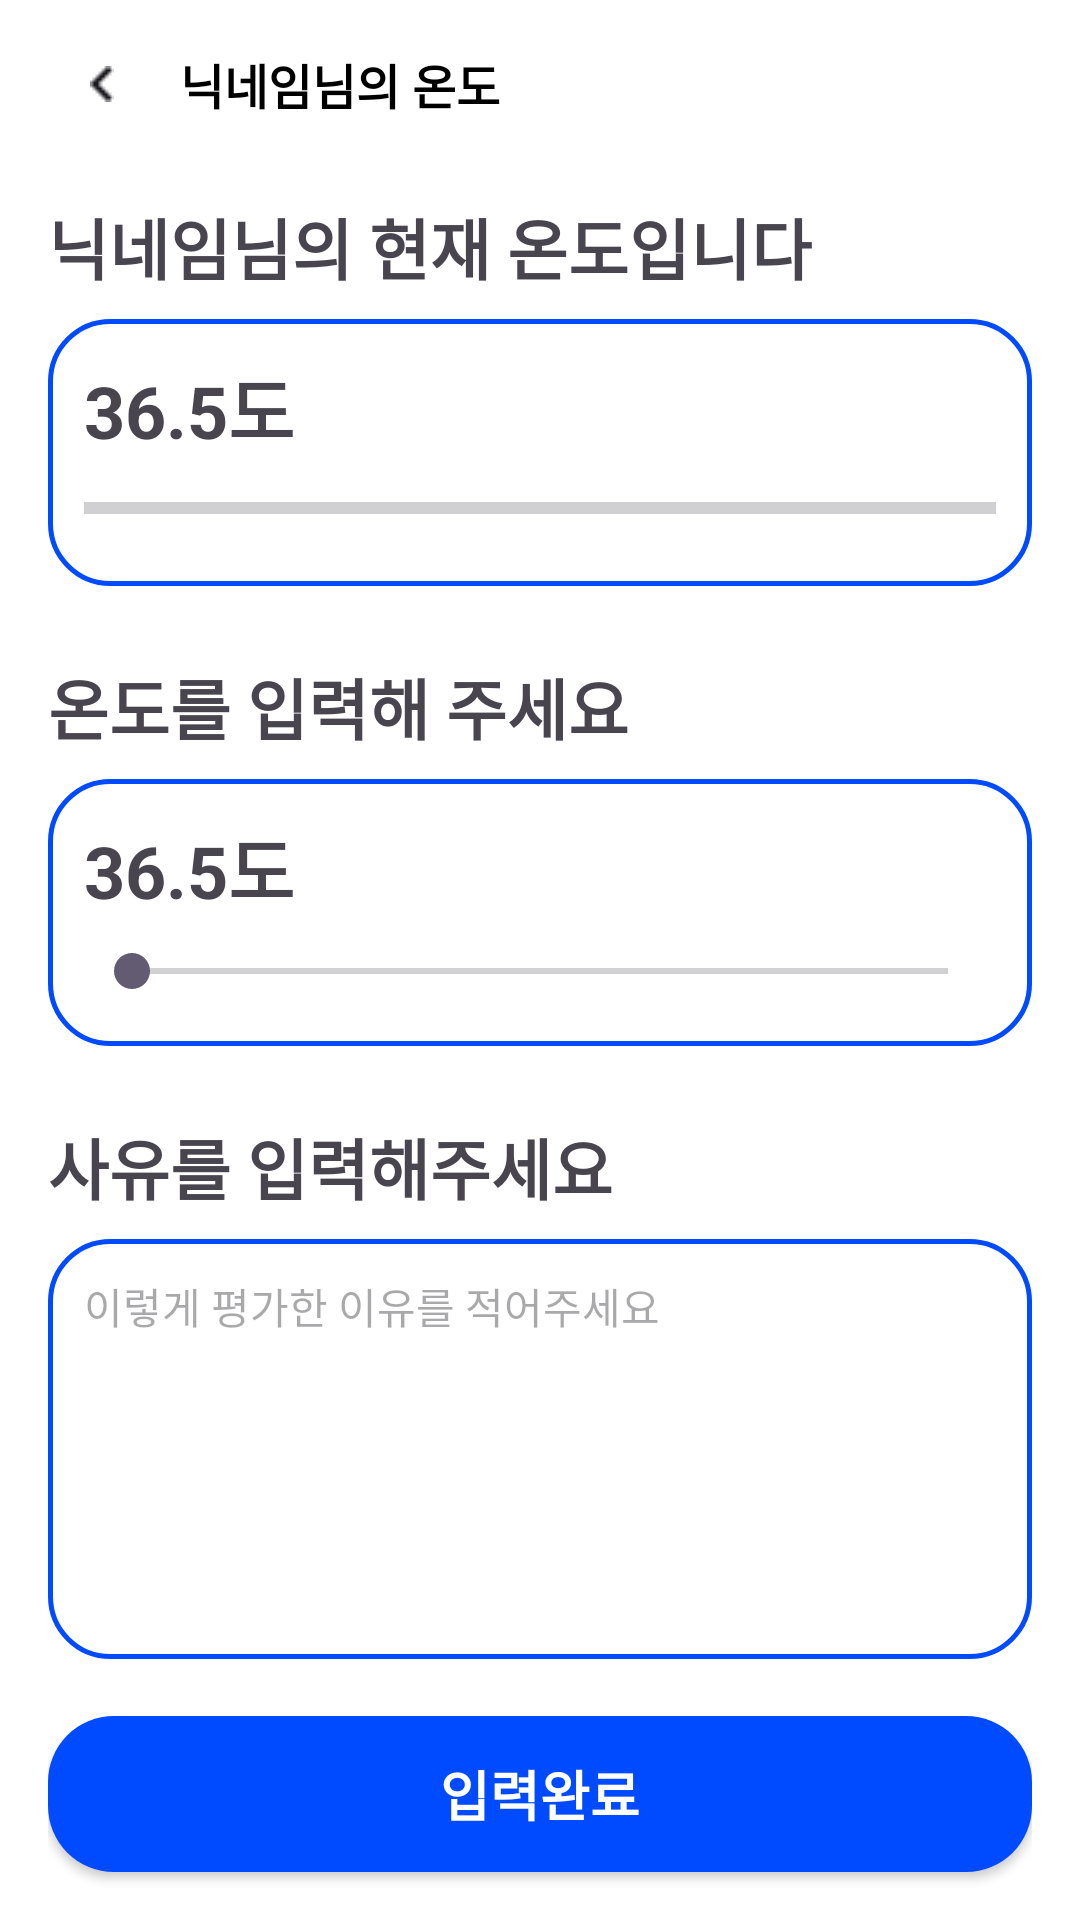

Named icons in this screenshot (1080 x 1920) and their centers, [x,y]:
뒤로가기: [102,84]
